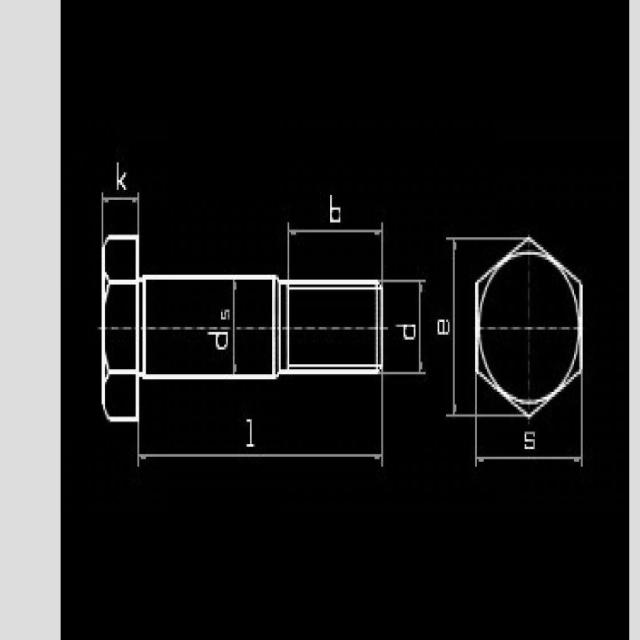marking_line: (141, 450, 383, 462), (450, 240, 458, 415), (479, 455, 581, 464), (291, 226, 382, 236), (231, 282, 239, 375), (418, 284, 425, 374), (104, 194, 136, 204)
